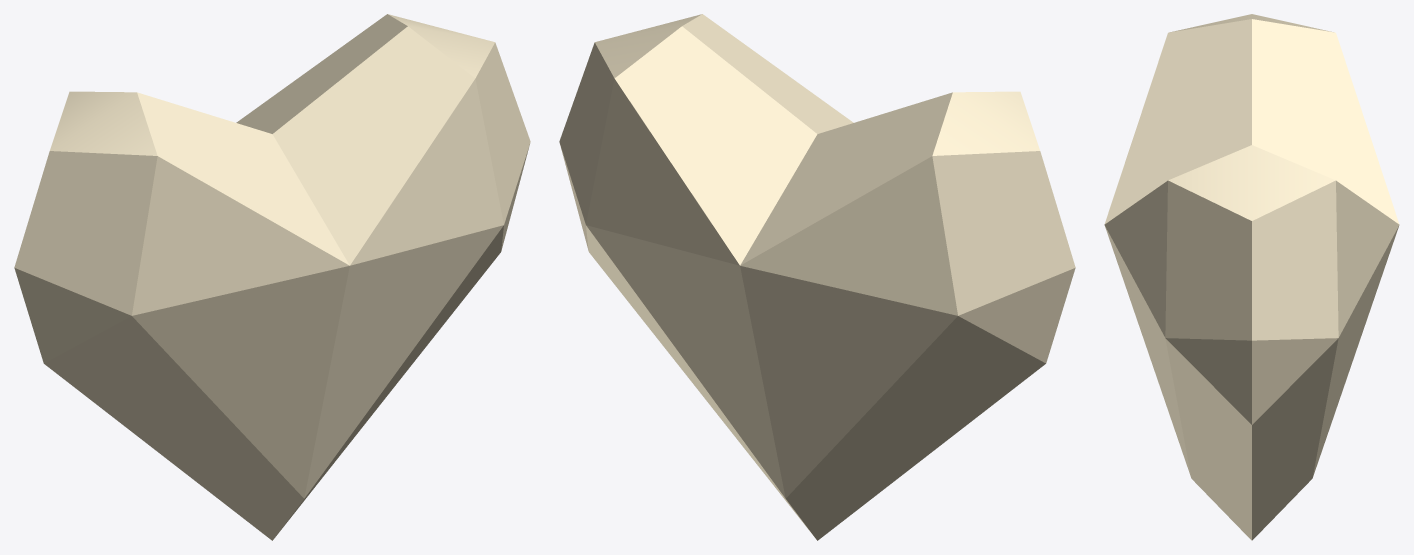
The model's file is PowerUp_Health_low.fbx.
The picture shows the model from 3 angles, left to right: view 1: azimuth 30°, elevation 25°; view 2: azimuth 150°, elevation 25°; view 3: azimuth 270°, elevation 25°; orthographic projection. The views are drawn at different scales.
Parts seen in each view (by area): view 1: PowerUp_Health_low; view 2: PowerUp_Health_low; view 3: PowerUp_Health_low.
Part boxes in pixels (x1,y1,x2,y2): PowerUp_Health_low: (14, 14, 530, 540); PowerUp_Health_low: (559, 14, 1075, 540); PowerUp_Health_low: (1104, 14, 1399, 540).
Bounding box in the file's own units: 40.33 × 35.95 × 20.95.
